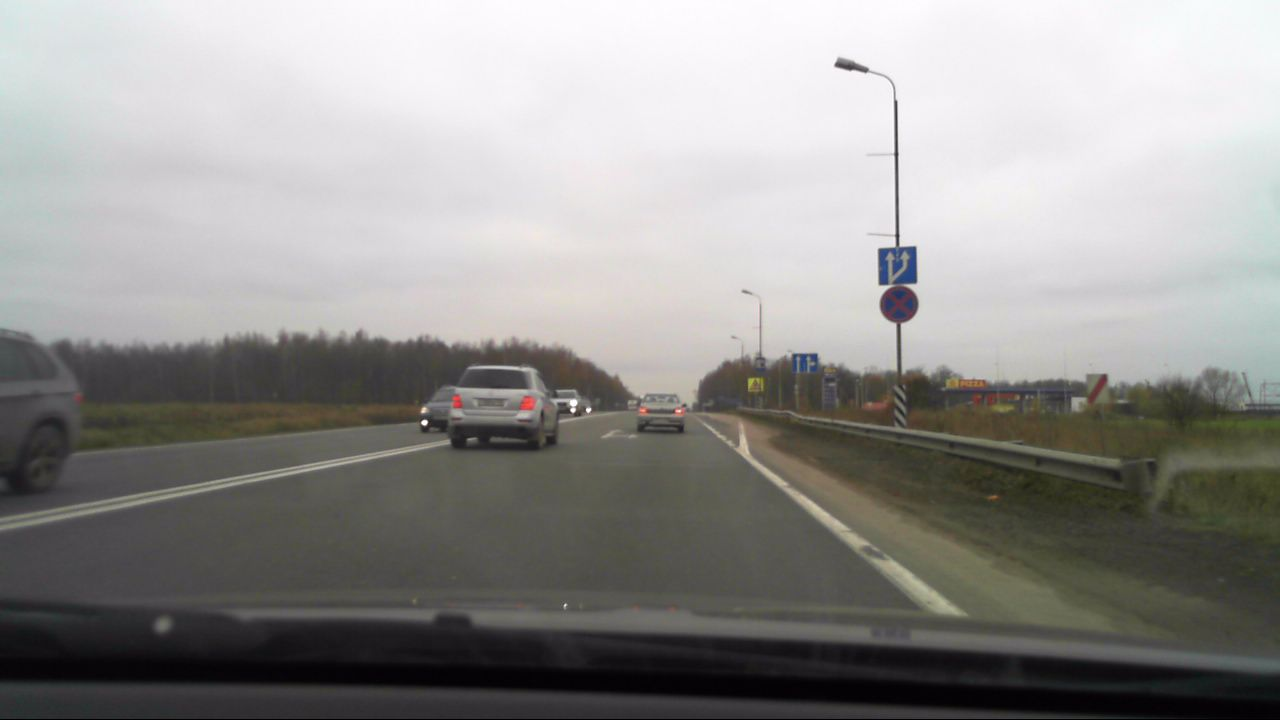No Parking: (879, 287, 917, 322)
